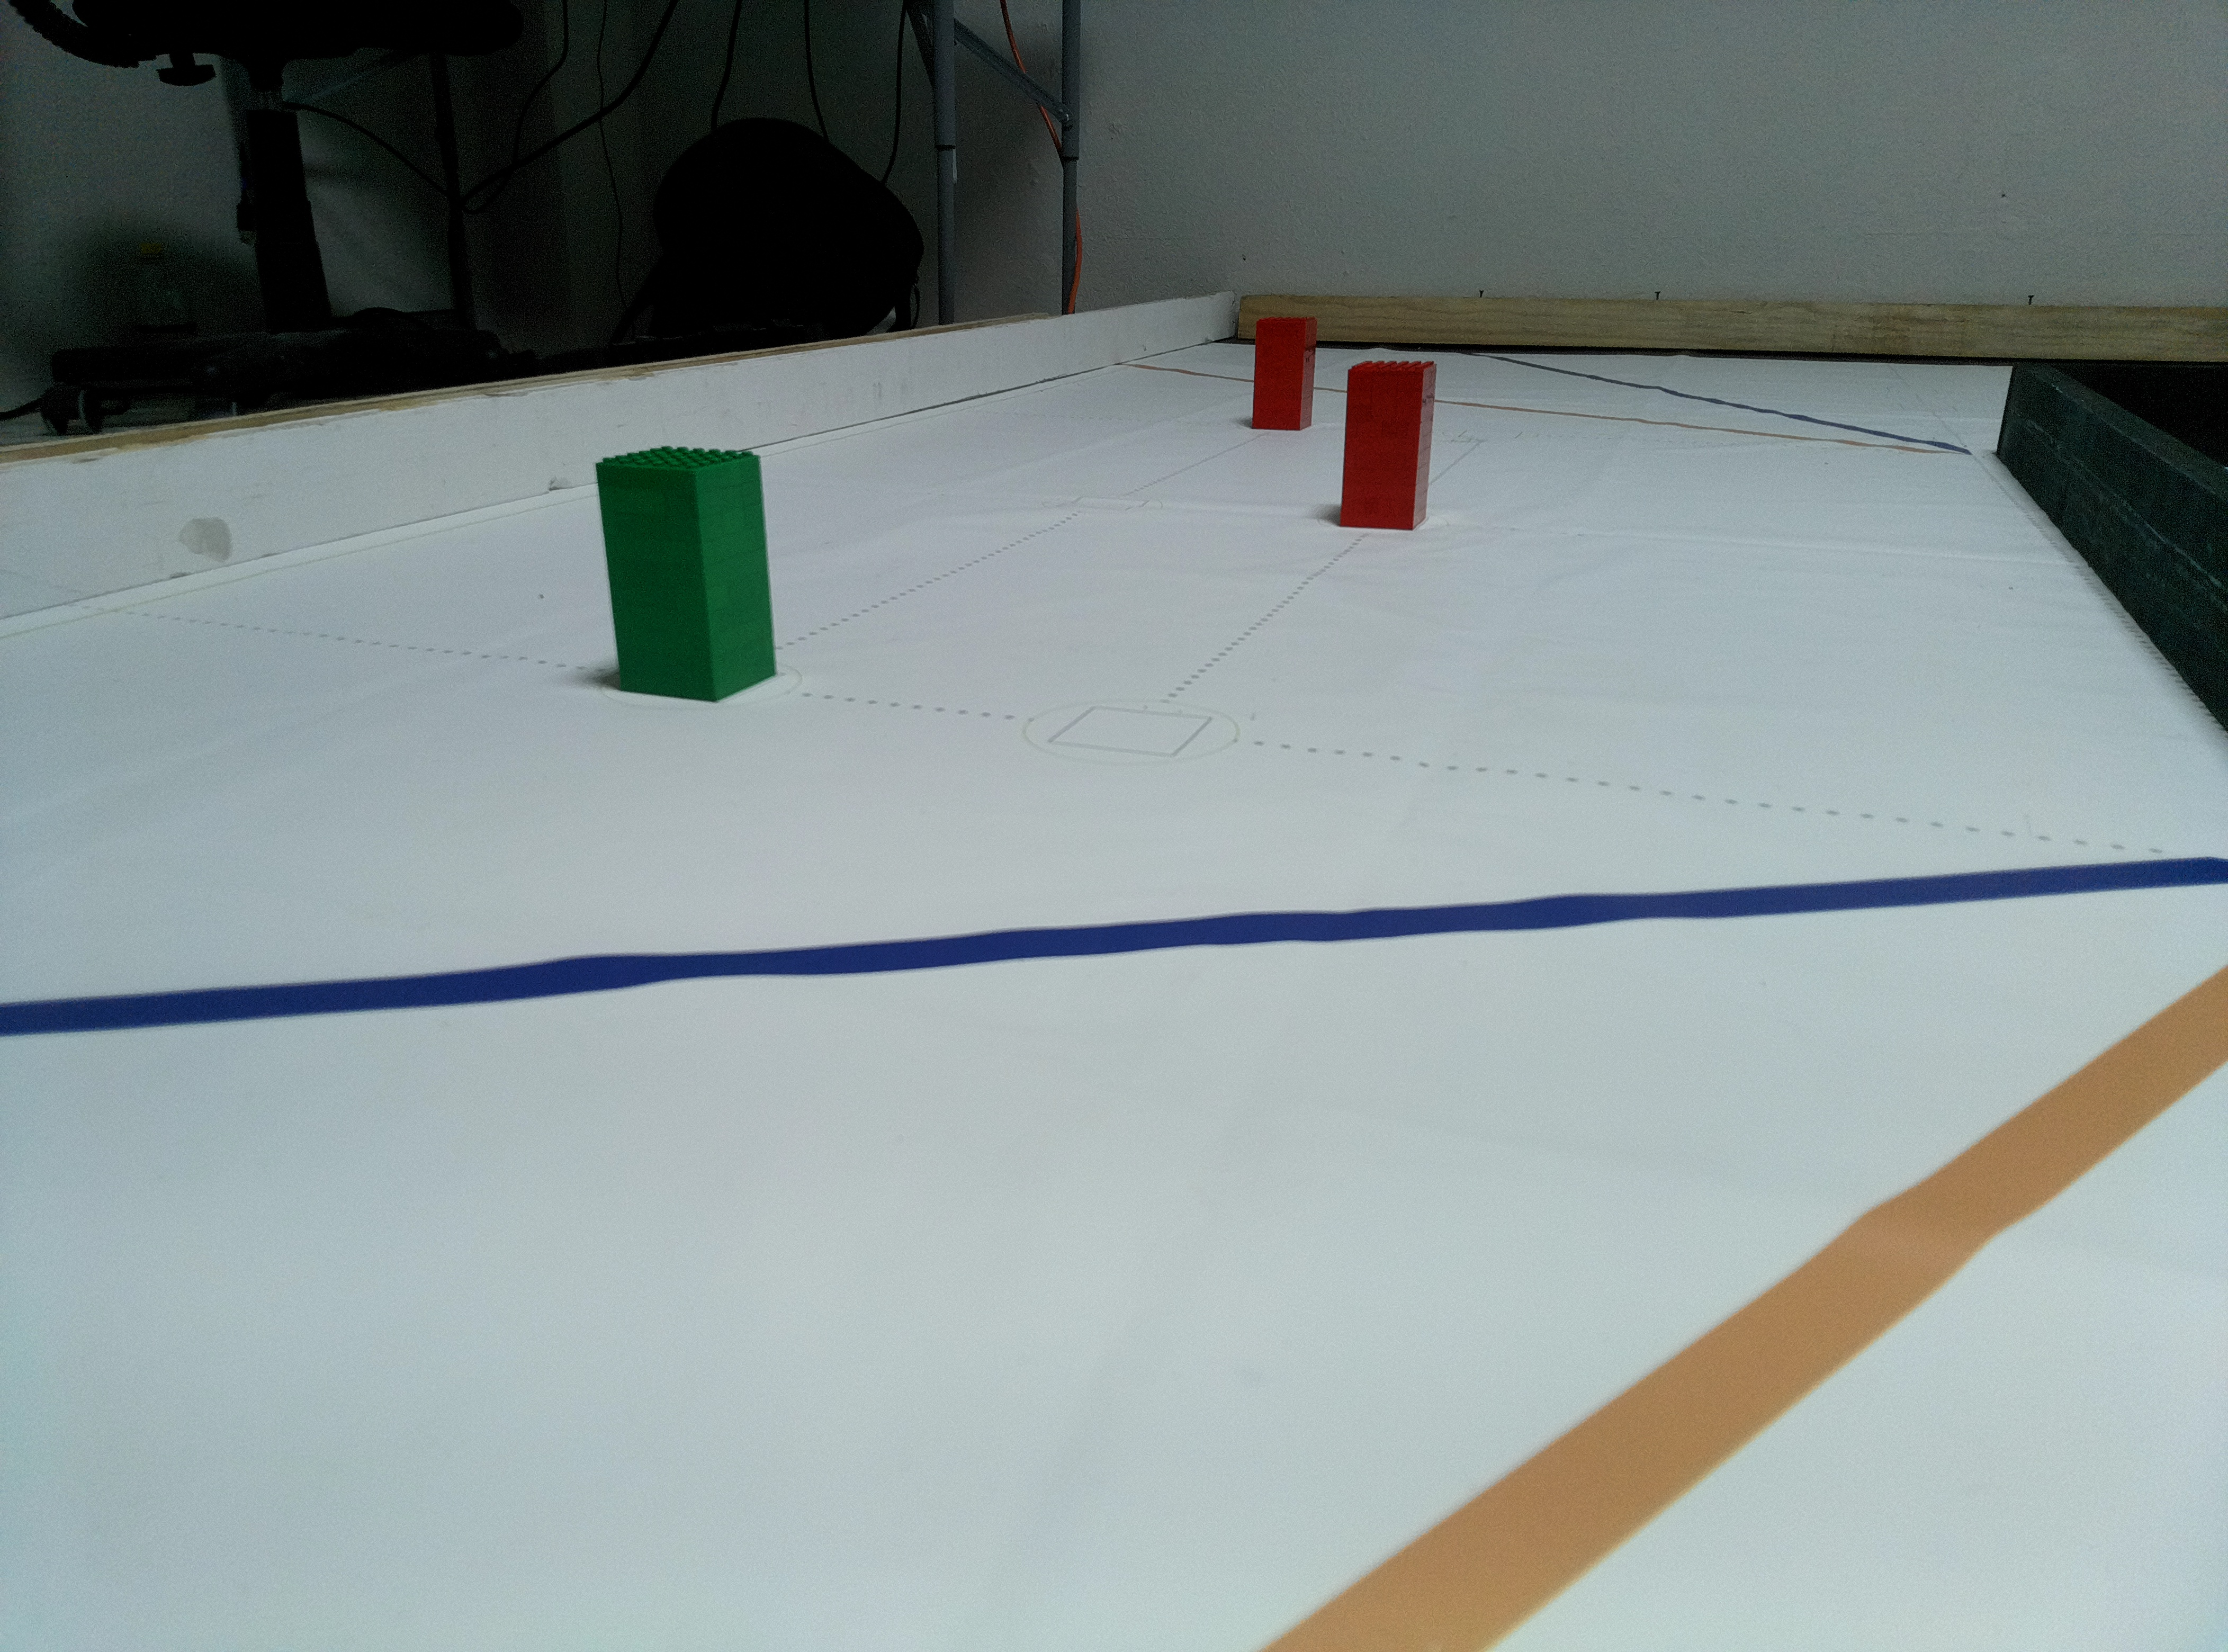greenbox: (588, 442, 784, 703)
redbox: (1336, 356, 1440, 531), (1249, 316, 1320, 434)
